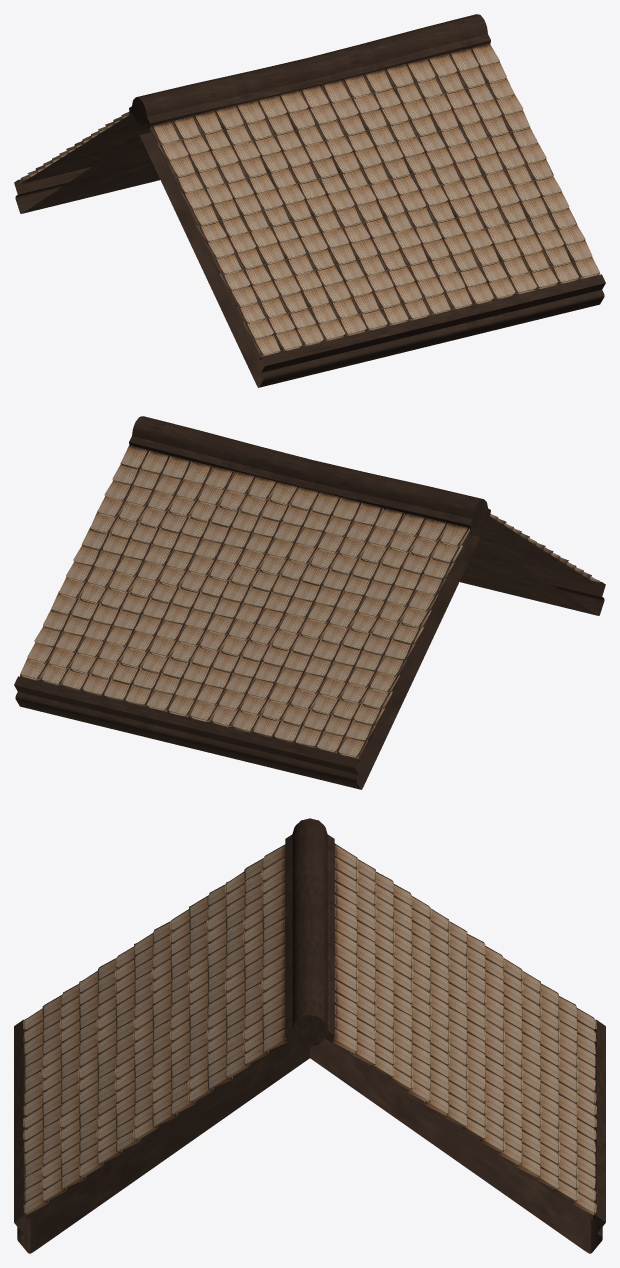
Rendered from OutdoorArchitecture_Roof01_Tiles01_Mid_BShortt.fbx.
3 views of the same model, one above another, from view 1: azimuth 30°, elevation 25°; view 2: azimuth 150°, elevation 25°; view 3: azimuth 270°, elevation 25° (orthographic). The views are drawn at different scales.
Parts seen in each view (by area): view 1: OutdoorArchitecture_Roof01_Tiles01_Mid_BShortt; view 2: OutdoorArchitecture_Roof01_Tiles01_Mid_BShortt; view 3: OutdoorArchitecture_Roof01_Tiles01_Mid_BShortt.
Boxes of the visible parts, bbox=[...] form: OutdoorArchitecture_Roof01_Tiles01_Mid_BShortt: bbox=[14, 14, 605, 387]; OutdoorArchitecture_Roof01_Tiles01_Mid_BShortt: bbox=[14, 416, 605, 789]; OutdoorArchitecture_Roof01_Tiles01_Mid_BShortt: bbox=[14, 818, 605, 1253].
Bounding box in the file's own units: 300 × 170 × 382.
